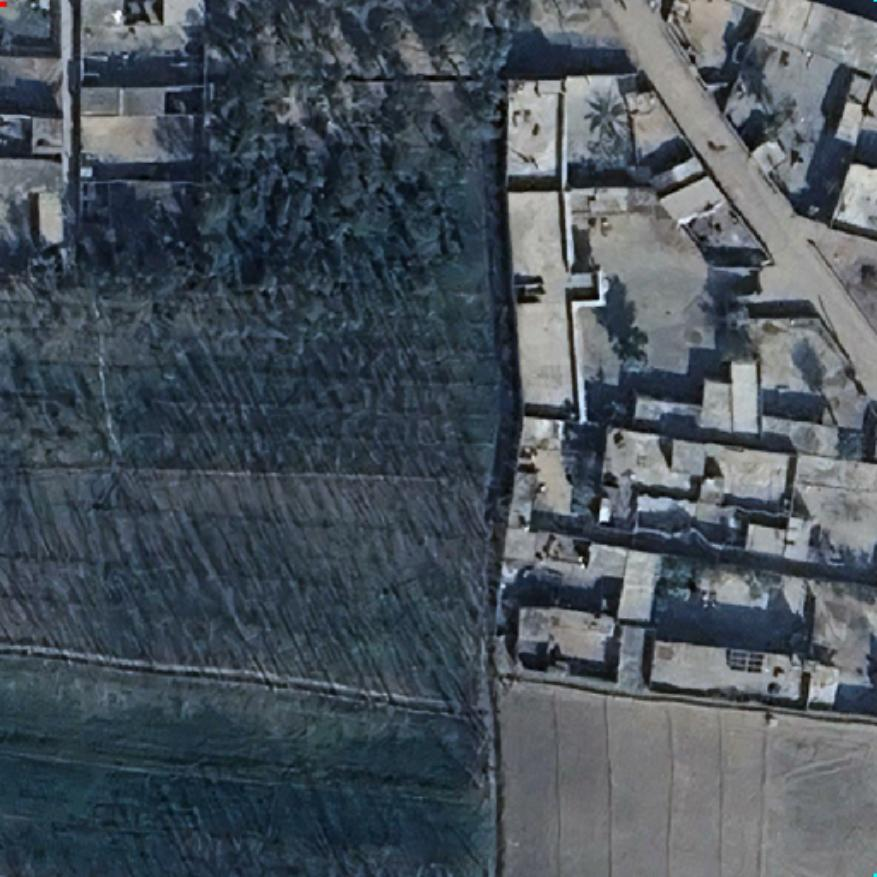Solarpanel: (724, 645, 768, 675)
